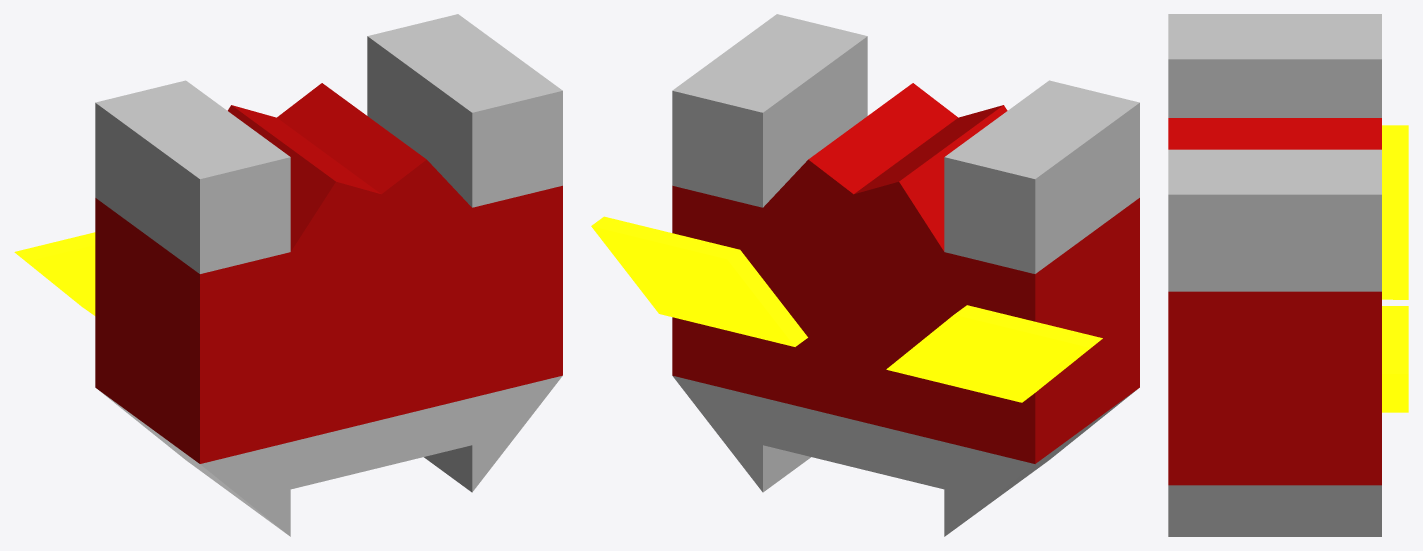
The model's file is RedReaper.fbx.
3 renders of one model, left to right at view 1: azimuth 30°, elevation 25°; view 2: azimuth 150°, elevation 25°; view 3: azimuth 270°, elevation 25°, orthographic. The views are drawn at different scales.
Visible parts, largest first — view 1: Cube; view 2: Cube; view 3: Cube.
Boxes of the visible parts, x1=… form: Cube: x1=14, y1=14, x2=562, y2=536; Cube: x1=591, y1=14, x2=1139, y2=536; Cube: x1=1168, y1=14, x2=1408, y2=536.
Bounding box in the file's own units: 1.38 × 1 × 0.5625.
